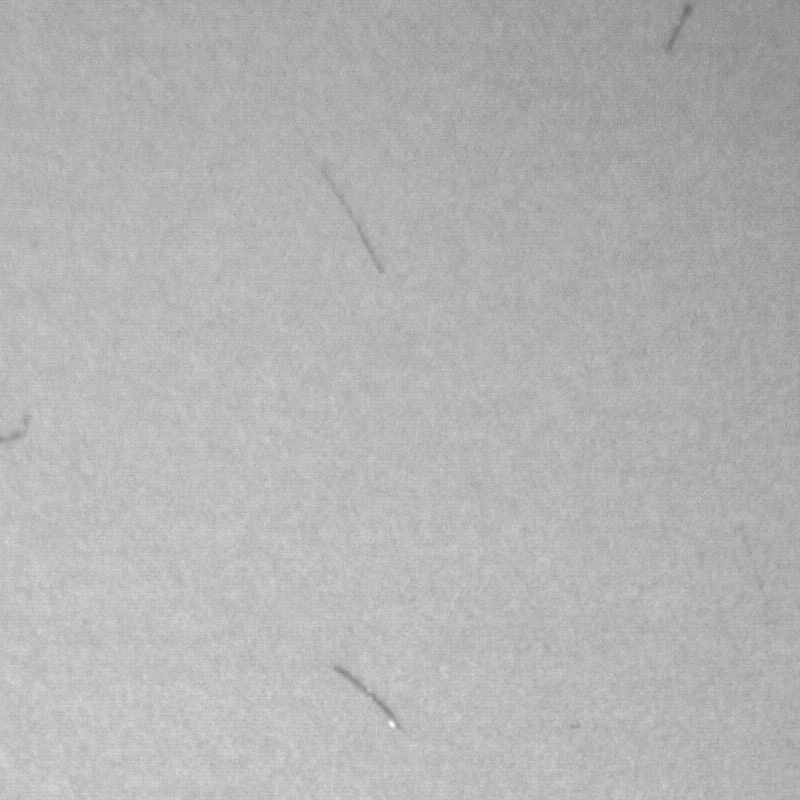defect: (325, 166, 388, 277), (334, 666, 416, 736), (741, 529, 768, 599), (667, 3, 693, 47), (1, 415, 27, 444)
